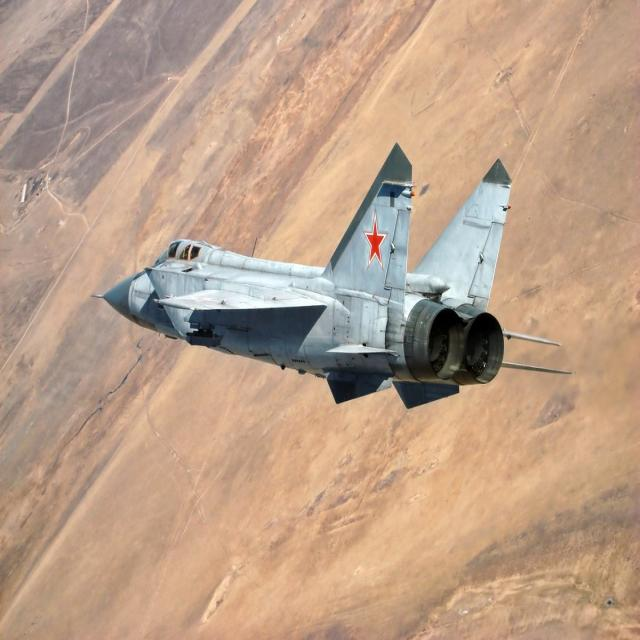MIL_Plane: (89, 141, 574, 410)
